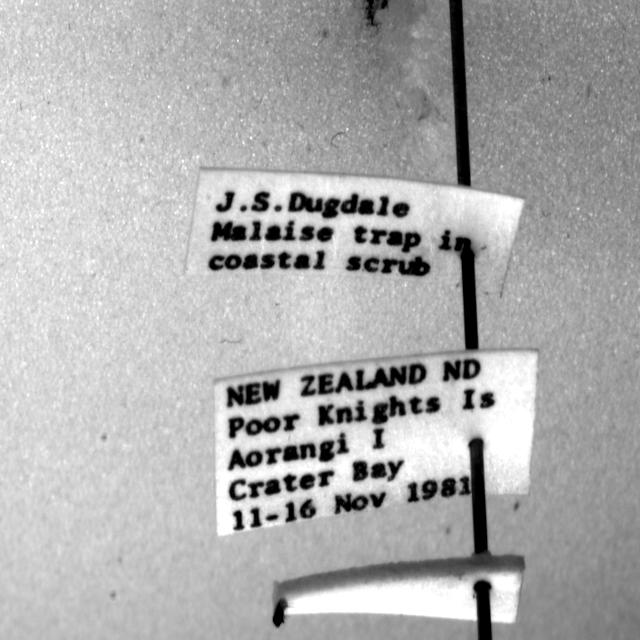typed_label: (214, 351, 538, 534), (186, 169, 524, 292)
